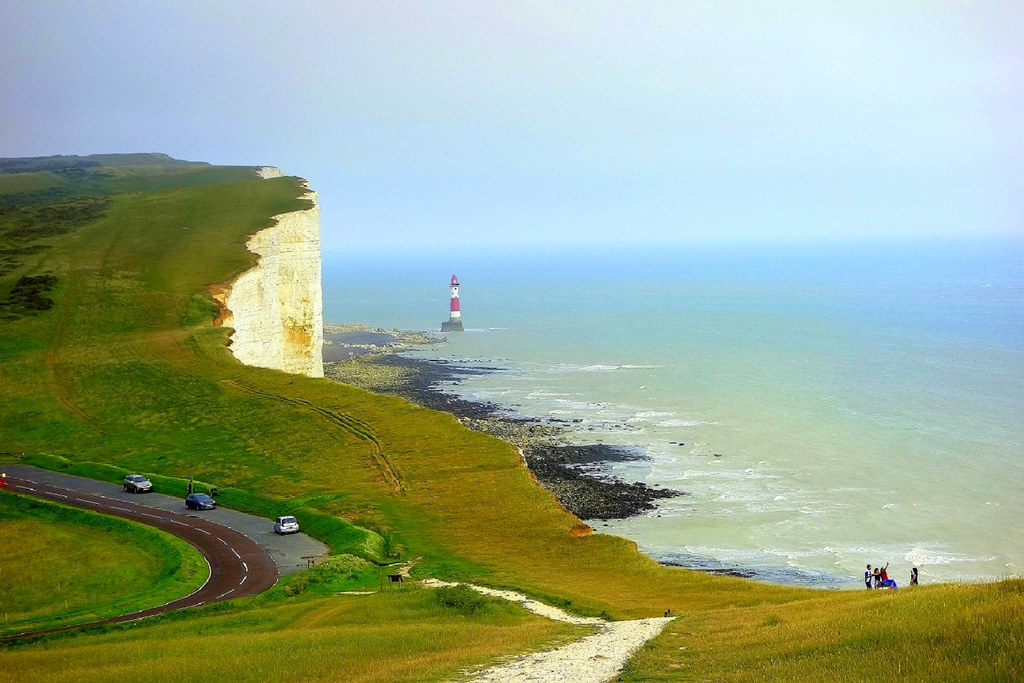car: (108, 450, 154, 495)
